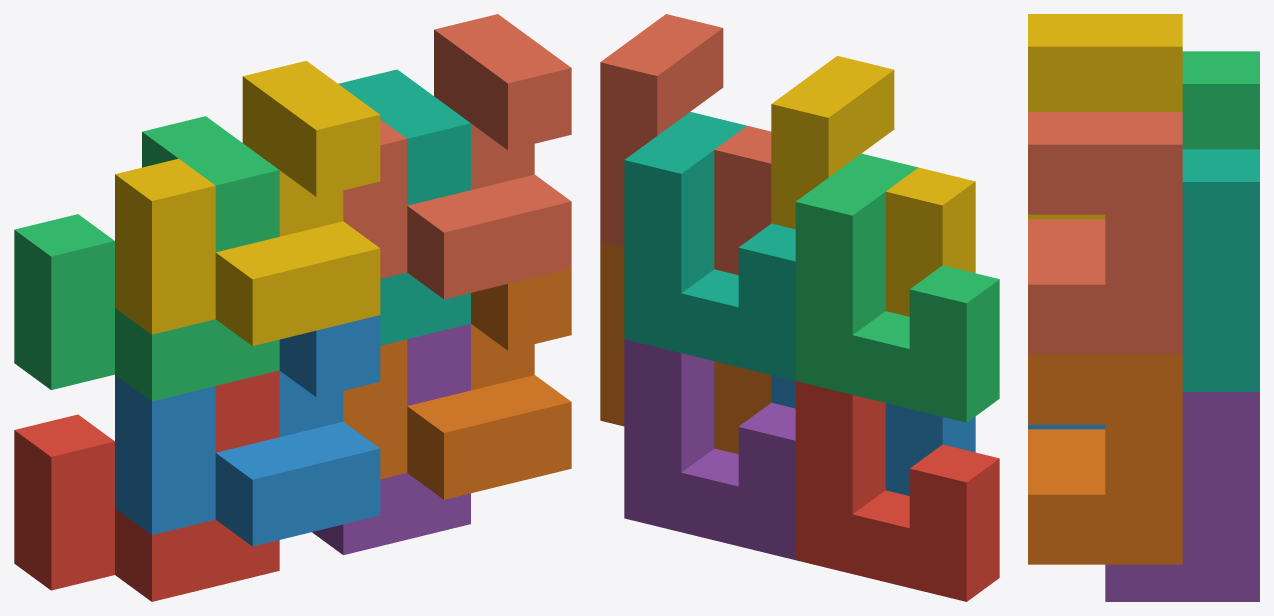
File: tiling.obj
The picture shows the model from 3 angles, left to right: view 1: azimuth 30°, elevation 25°; view 2: azimuth 150°, elevation 25°; view 3: azimuth 270°, elevation 25°; orthographic projection. The views are drawn at different scales.
Visible parts, largest first — view 1: copy_1_domain_4, copy_1_domain_2, copy_1_domain_8, copy_1_domain_3, copy_1_domain_6, copy_1_domain_1, copy_1_domain_7, copy_1_domain_5; view 2: copy_1_domain_3, copy_1_domain_1, copy_1_domain_7, copy_1_domain_5, copy_1_domain_4, copy_1_domain_8, copy_1_domain_6, copy_1_domain_2; view 3: copy_1_domain_8, copy_1_domain_6, copy_1_domain_5, copy_1_domain_7, copy_1_domain_4, copy_1_domain_3, copy_1_domain_2.
Part boxes in pixels (x1,y1,x2,y2): copy_1_domain_4: (115,60,380,345); copy_1_domain_2: (115,315,380,546); copy_1_domain_8: (343,14,571,299); copy_1_domain_3: (14,116,279,401); copy_1_domain_6: (343,268,571,499); copy_1_domain_1: (14,370,279,601); copy_1_domain_7: (338,69,470,345); copy_1_domain_5: (312,324,470,554); copy_1_domain_3: (795,153,999,422); copy_1_domain_1: (795,381,999,601); copy_1_domain_7: (624,112,795,380); copy_1_domain_5: (624,339,795,559); copy_1_domain_4: (771,56,975,316); copy_1_domain_8: (600,14,771,274); copy_1_domain_6: (600,241,771,454); copy_1_domain_2: (771,375,975,495); copy_1_domain_8: (1028,112,1182,354); copy_1_domain_6: (1028,354,1182,564); copy_1_domain_5: (1105,392,1259,601); copy_1_domain_7: (1182,149,1259,391); copy_1_domain_4: (1028,14,1182,219); copy_1_domain_3: (1182,51,1259,149); copy_1_domain_2: (1028,424,1105,429).
Size of the model in its own units: 7 by 7 by 3.
